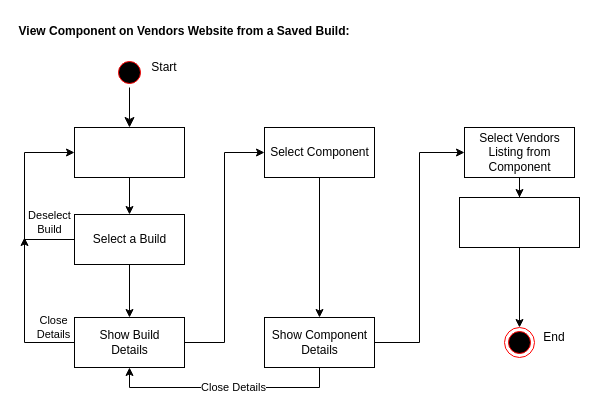
This 597x413 diagram has some shape labels left out. Here are the shapes that lost their labels. From the top down, the centre of each, then its label:
At (x=129, y=152): "User's Garage".
At (x=519, y=222): "Redirect to Product on Vendors Webpage in New Tab".
